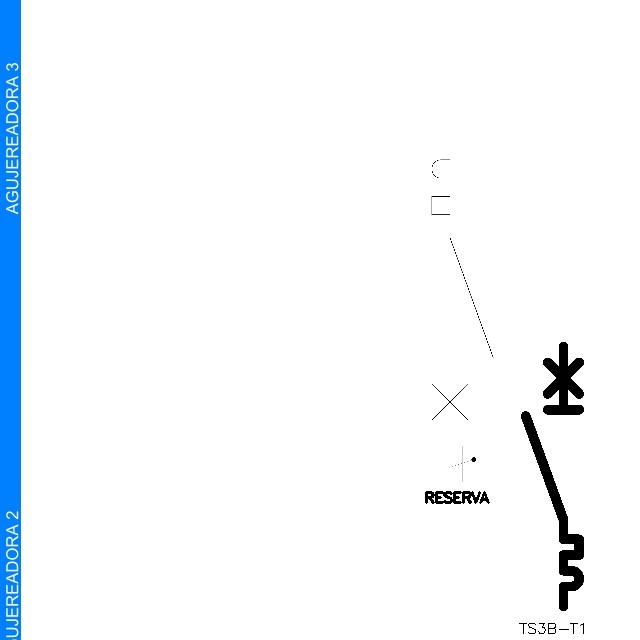interruptor_termomagnetico: (424, 129, 501, 446), (519, 340, 586, 613)
